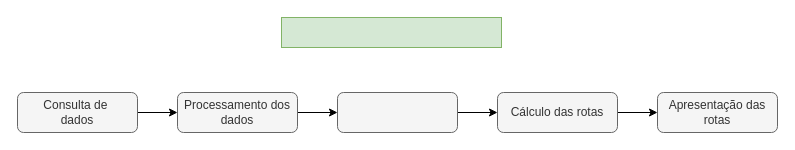
The diagram is 795 pixels wide and 150 high, and some of its shapes have lost their labels. Here are the shapes that lost their labels. From the top down, the centre of each, then its label:
At [391,32]: "Pipeline do processamento de dados".
At [397,112]: "Interpretação das informações".
